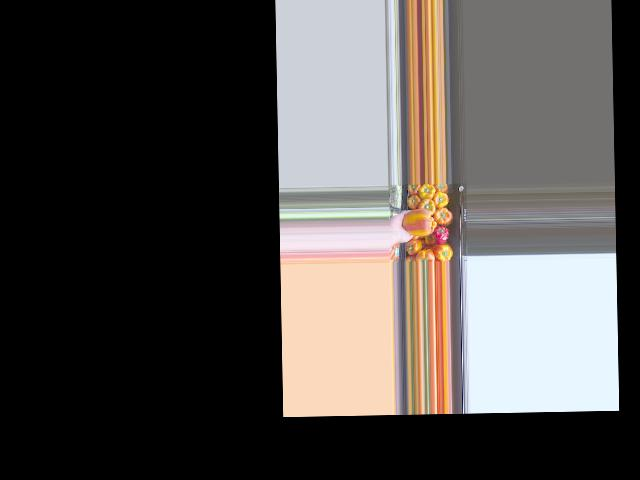bell_pepper: (407, 237, 422, 256)
